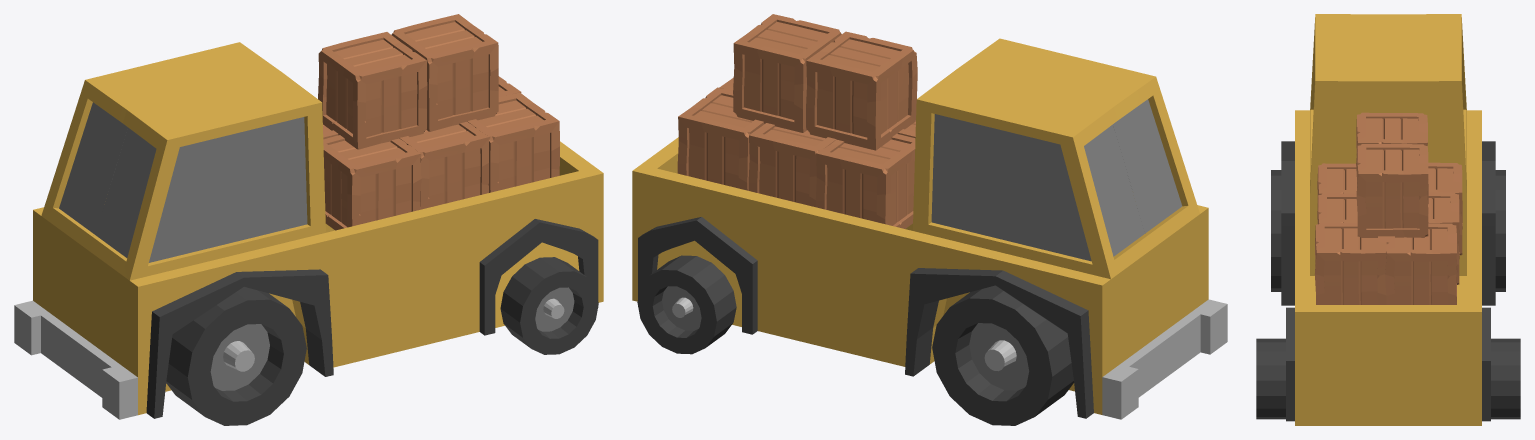
File: LorryWithLoad.fbx
The picture shows the model from 3 angles, left to right: view 1: azimuth 30°, elevation 25°; view 2: azimuth 150°, elevation 25°; view 3: azimuth 270°, elevation 25°; orthographic projection. The views are drawn at different scales.
Visible parts, largest first — view 1: Lorry.001_Cube.005, load_lorry.001_Cube.004; view 2: Lorry.001_Cube.005, load_lorry.001_Cube.004; view 3: Lorry.001_Cube.005, load_lorry.001_Cube.004.
Part boxes in pixels (box(x1,y1,x2,y2)): Lorry.001_Cube.005: box(14, 42, 603, 425); load_lorry.001_Cube.004: box(318, 14, 559, 230); Lorry.001_Cube.005: box(632, 38, 1227, 425); load_lorry.001_Cube.004: box(677, 14, 917, 228); Lorry.001_Cube.005: box(1256, 14, 1520, 425); load_lorry.001_Cube.004: box(1314, 112, 1462, 304).
Size of the model in its own units: 638 by 353 by 340.
